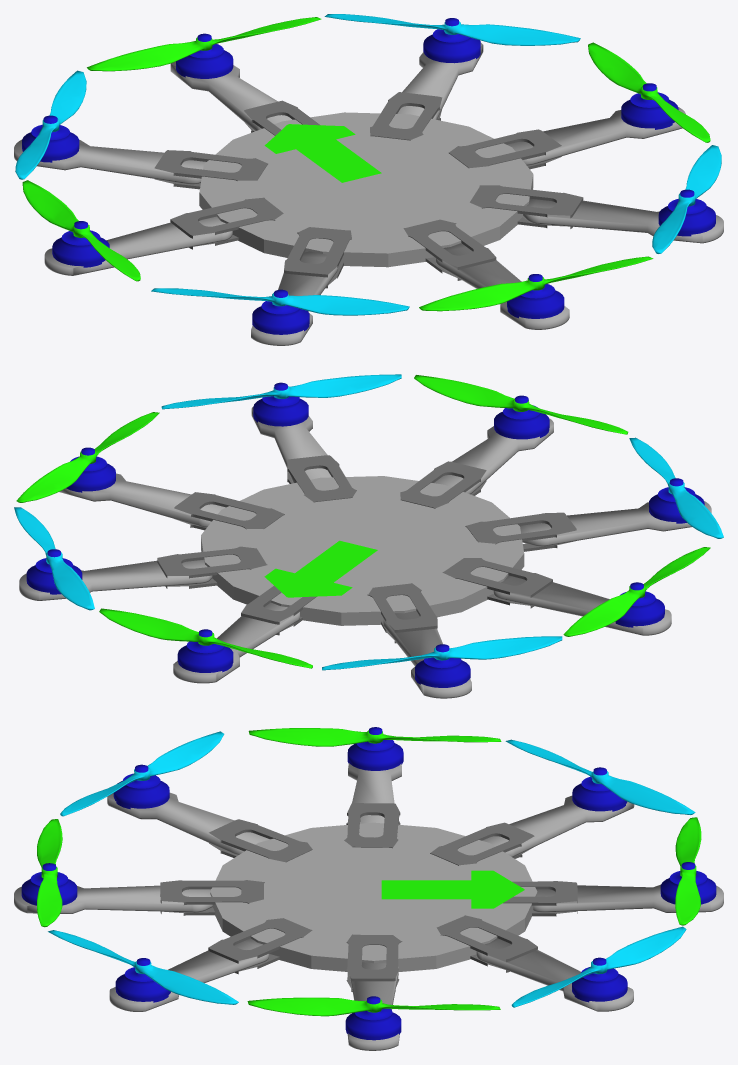
File: octo_plus8.gltf
The picture shows the model from 3 angles, top to bottom: view 1: azimuth 30°, elevation 25°; view 2: azimuth 150°, elevation 25°; view 3: azimuth 270°, elevation 25°; orthographic projection. The views are drawn at different scales.
Visible parts, largest first — view 1: blue-ccw-0.002; view 2: blue-ccw-0.002; view 3: blue-ccw-0.002.
Part boxes in pixels (bbox=[...]): blue-ccw-0.002: bbox=[14, 14, 723, 345]; blue-ccw-0.002: bbox=[14, 374, 723, 698]; blue-ccw-0.002: bbox=[14, 727, 723, 1050].
Bounding box in the file's own units: 1.03 × 0.0648 × 1.03.
